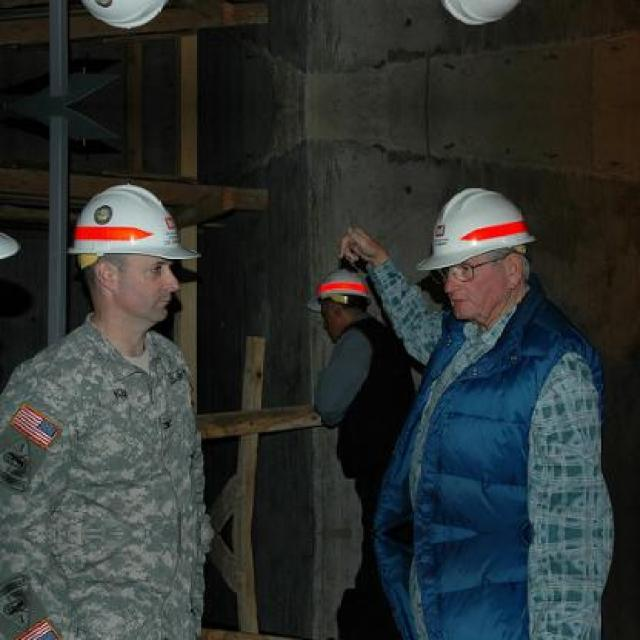helmet: (49, 162, 206, 342), (414, 177, 552, 327), (49, 0, 208, 51), (414, 0, 554, 35), (308, 272, 375, 328)
